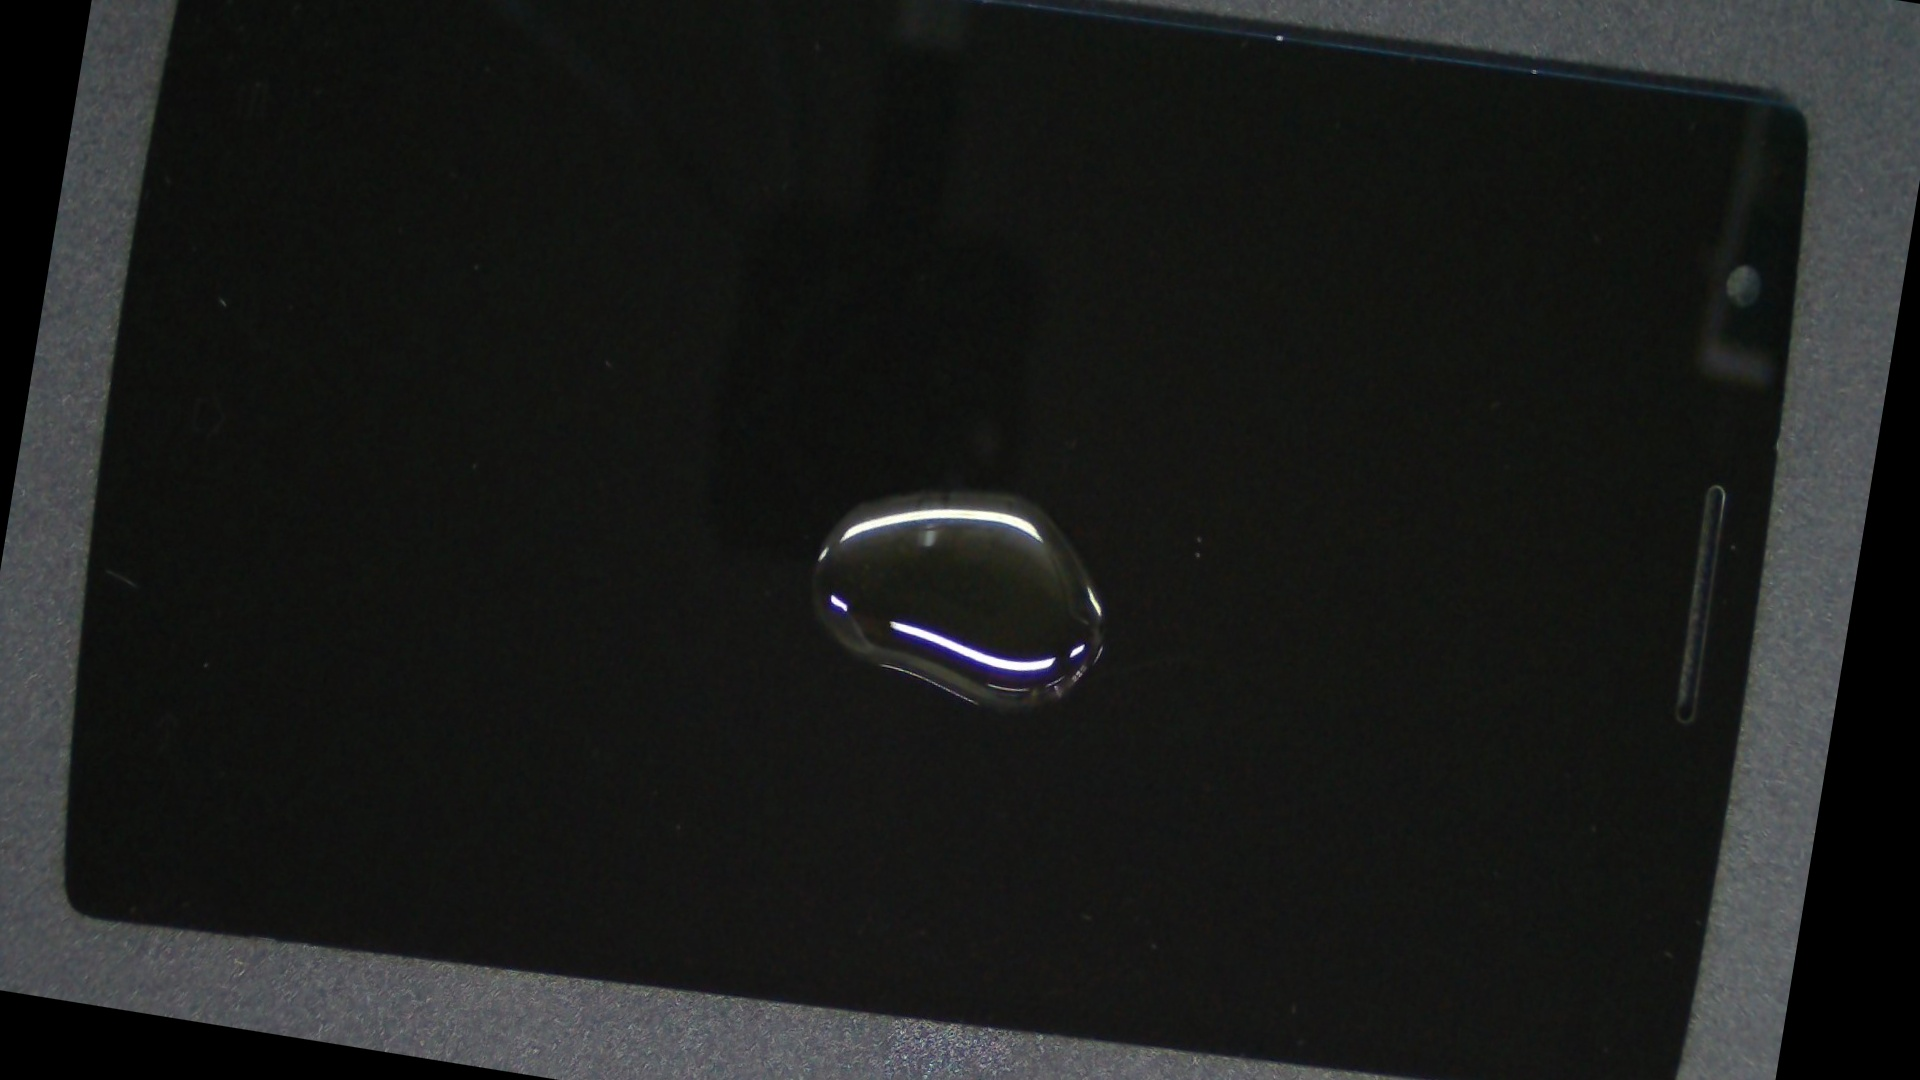oil: (476, 105, 1551, 884)
